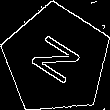N_SE: (25, 29, 88, 90)
